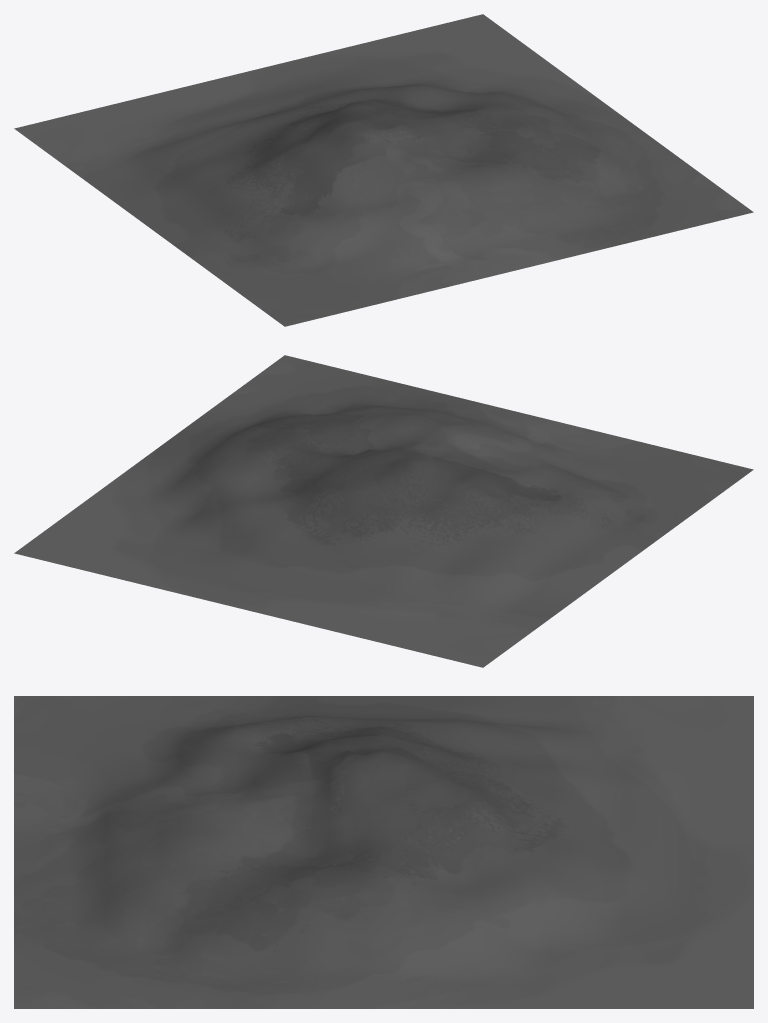
Rendered from Revision_Island_Terrain_Prim.glb.
3 renders of one model, top to bottom at view 1: azimuth 30°, elevation 25°; view 2: azimuth 150°, elevation 25°; view 3: azimuth 270°, elevation 25°, orthographic. The views are drawn at different scales.
Parts seen in each view (by area): view 1: Island_Terrain_Base_Displacement; view 2: Island_Terrain_Base_Displacement; view 3: Island_Terrain_Base_Displacement.
Boxes of the visible parts, bbox=[...] form: Island_Terrain_Base_Displacement: bbox=[14, 14, 753, 326]; Island_Terrain_Base_Displacement: bbox=[14, 355, 753, 667]; Island_Terrain_Base_Displacement: bbox=[14, 696, 753, 1008].
Size of the model in its own units: 20000 by 2279 by 20000.
Materials: 1 (1 with a texture image).
